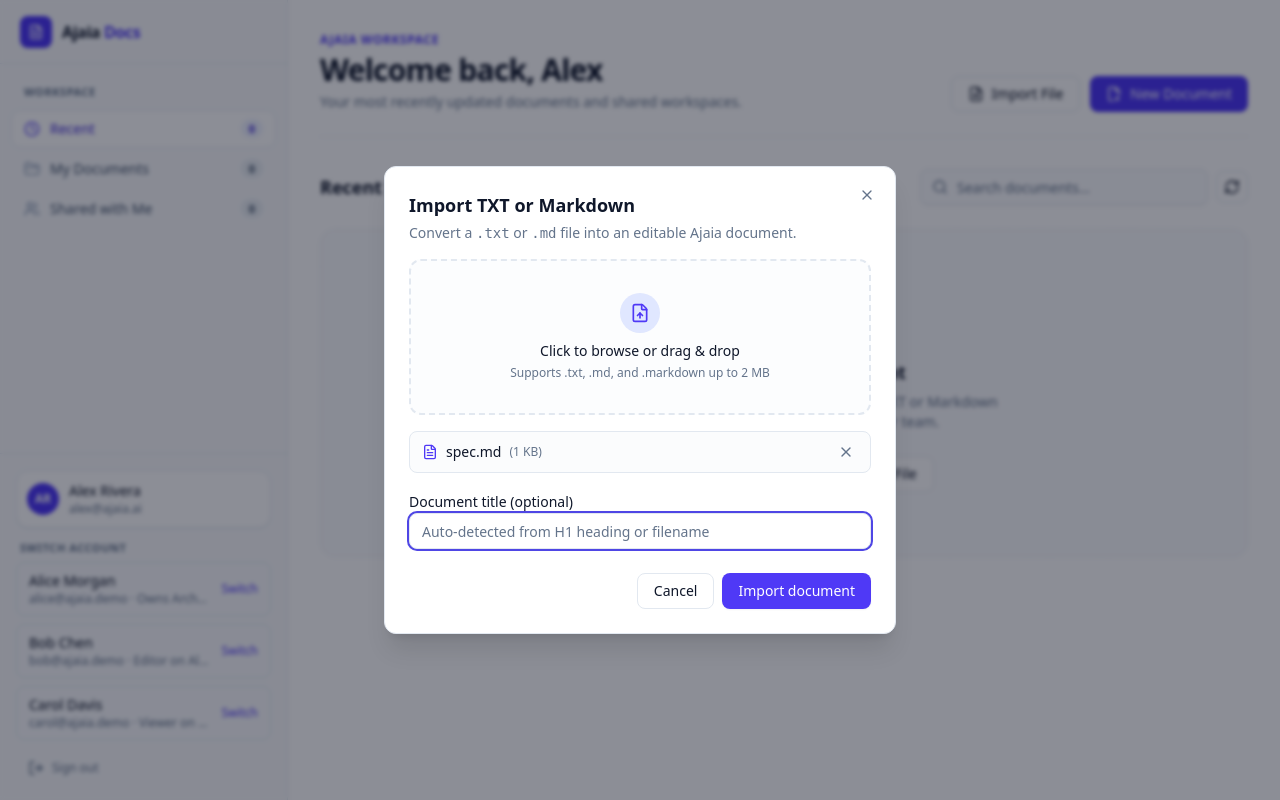
Test case: Ajaia Docs Dashboard & Dialogs › supports drag-and-drop import, redirects to editor on success, and surfaces errors on failure
Earlier steps of the test are not shown.
Later steps or results of the test are not shown.
What coordinates should you click on to do the following:
click the button "Import document"
I would click on:
 (797, 591)
Its box is [722,573,871,609].
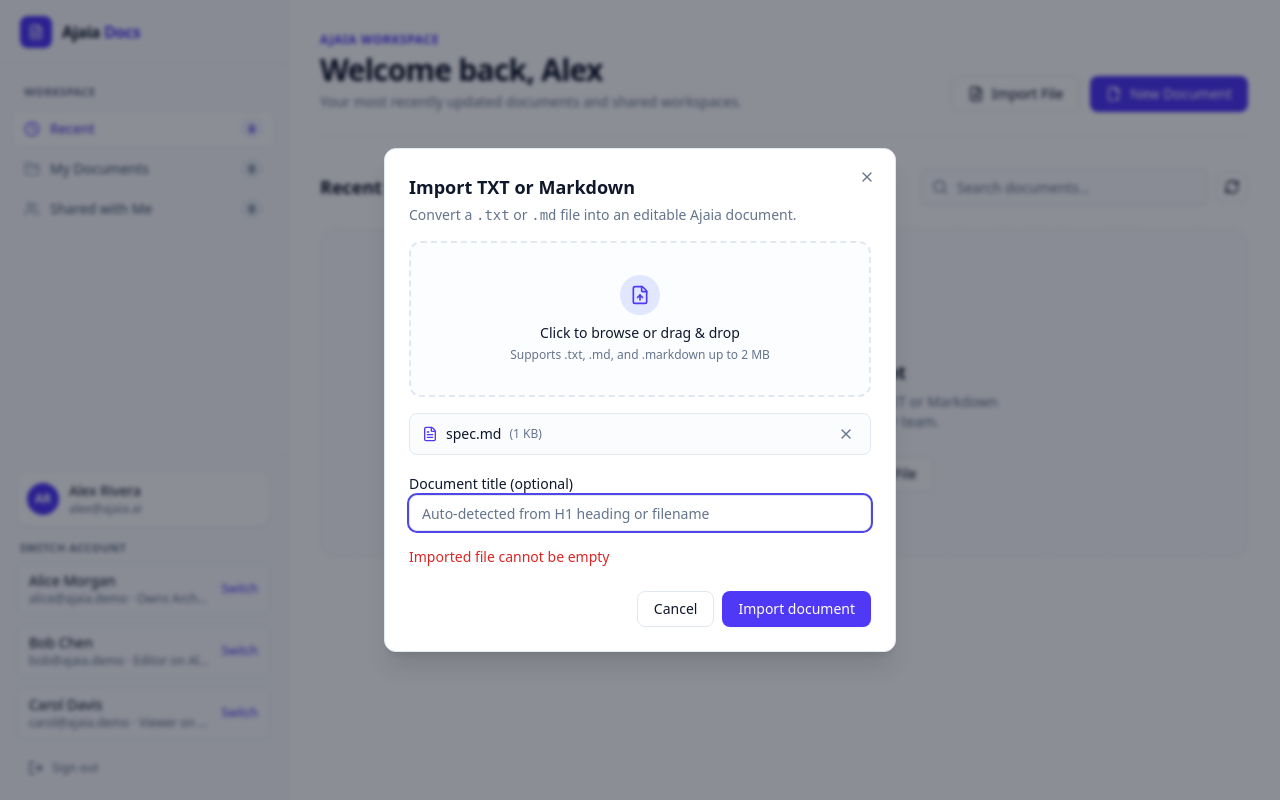
Expected: the text "Imported file cannot be empty" is shown, [409,547,610,566]
